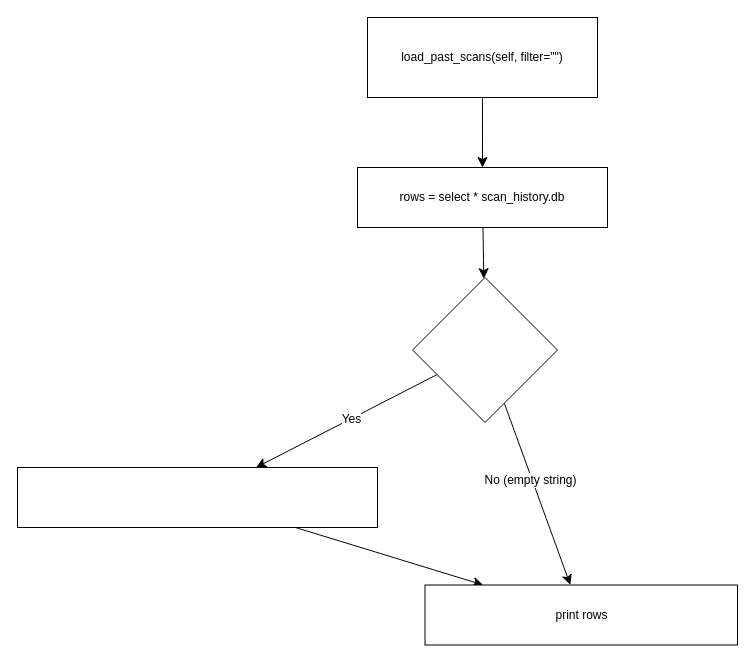
Image size: 755x663. Some labels were removed from this diagram. Here are the shapes that lost their labels. From the top down, the centre of each, then its label:
pixel 485 349: filter provided?
pixel 197 497: rows = [row for row in rows if row[4] == filter]
